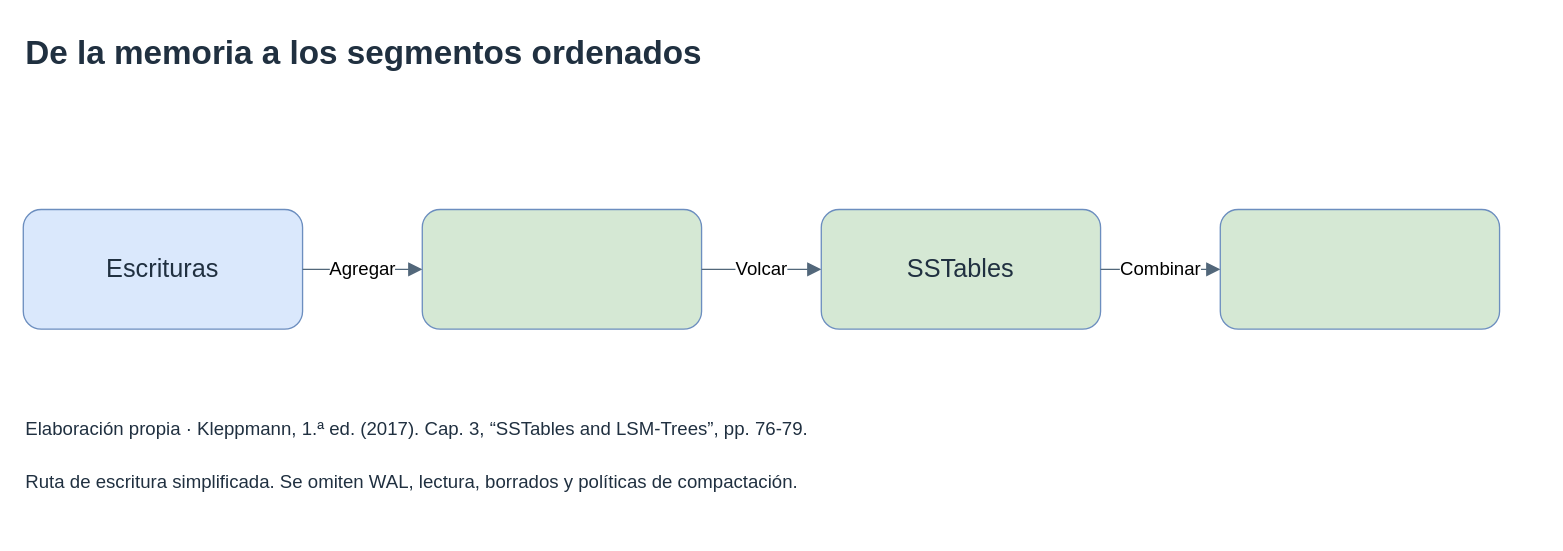
The diagram is 1563 pixels wide and 551 high, and some of its shapes have lost their labels. Each missing label, with the centre of its shape:
"Compactación" belongs at (x=1359, y=268).
"Memtable" belongs at (x=561, y=268).
